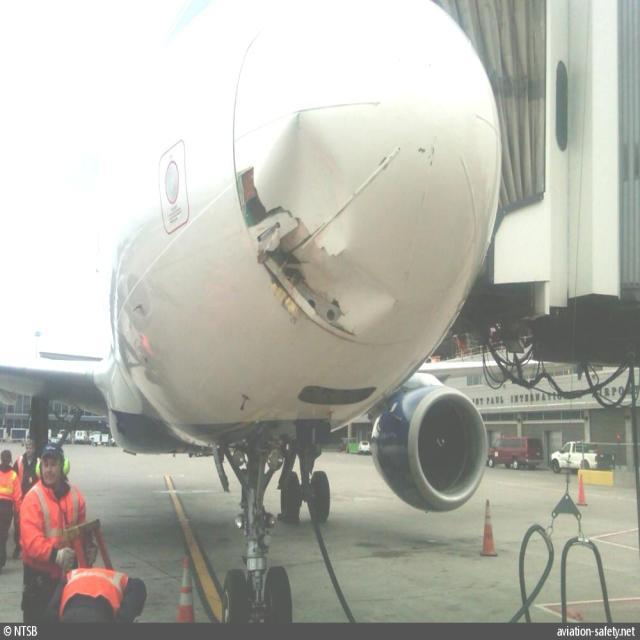dent: (260, 114, 348, 253), (315, 255, 399, 331)
